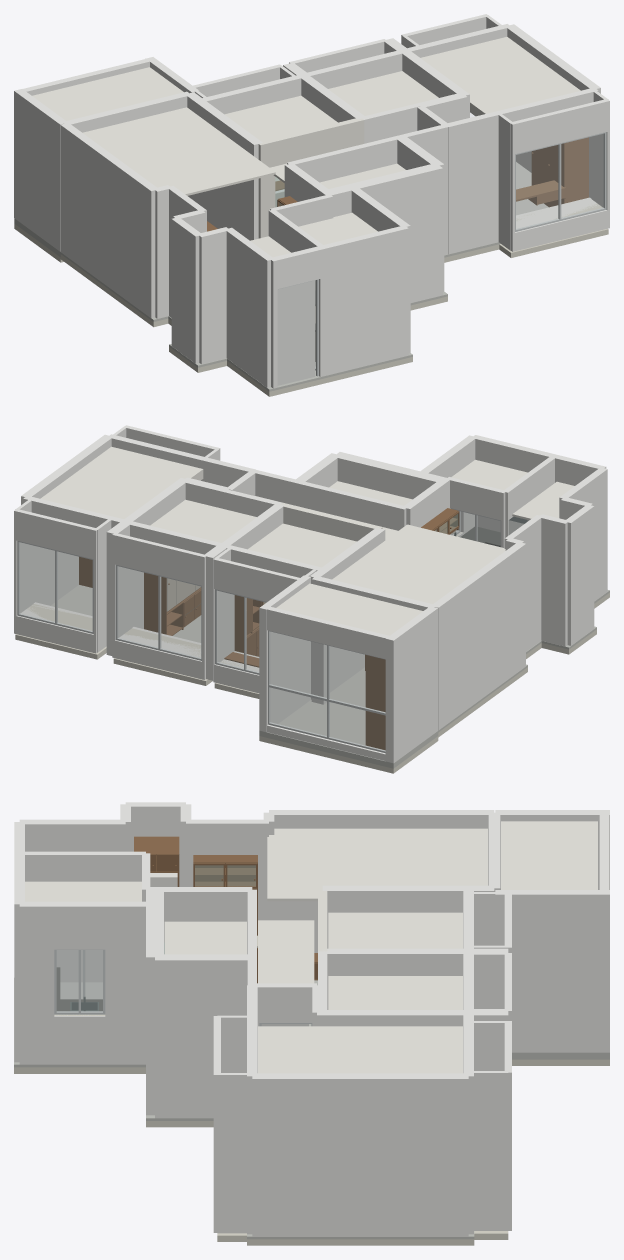
Rendered from BASE-v3-最终封窗范围示意.glb.
3 renders of one model, top to bottom at view 1: azimuth 30°, elevation 25°; view 2: azimuth 150°, elevation 25°; view 3: azimuth 270°, elevation 25°, orthographic. The views are drawn at different scales.
Parts seen in each view (by area): view 1: W-living-west-jamb-0, W-kitchen-exterior-south-jamb-0, C-panel-living, W-bay-master-bottom-room-jamb-0, W-balcony-left-jamb-0, C-panel-master, W-entry-west-jamb-0, W-bathroom-south-jamb-3, W-bedroom1-west-jamb-0, C-panel-balcony, W-west-niche-jamb-0, D-entry-leaf (+55 smaller); view 2: W-living-west-jamb-0, C-panel-living, W-balcony-left-jamb-0, C-panel-master, WIN-balcony-glass-b, WIN-balcony-glass-a, W-balcony-right-jamb-0, C-panel-balcony, W-west-niche-jamb-0, W-west-return-jamb-0, W-master-east-jamb-0, FIN-balcony-pending (+69 smaller); view 3: W-master-east-jamb-0, W-balcony-right-jamb-0, C-panel-living, W-bathroom-east-jamb-0, C-panel-master, W-kitchen-exterior-east-jamb-0, C-panel-balcony, W-kitchen-exterior-east-jamb-3, W-bay-master-top-right-jamb-0, W-living-west-jamb-0, W-bay-master-bottom-right-jamb-0, W-entry-west-jamb-0 (+47 smaller).
Boxes of the visible parts, x1,y1,x2,y2 form: W-living-west-jamb-0: [60, 124, 157, 318]; W-kitchen-exterior-south-jamb-0: [321, 225, 408, 375]; C-panel-living: [85, 107, 275, 195]; W-bay-master-bottom-room-jamb-0: [445, 111, 499, 254]; W-balcony-left-jamb-0: [14, 89, 65, 251]; C-panel-master: [425, 37, 580, 113]; W-entry-west-jamb-0: [226, 227, 273, 387]; W-bathroom-south-jamb-3: [390, 164, 442, 302]; W-bedroom1-west-jamb-0: [187, 92, 262, 240]; C-panel-balcony: [32, 67, 183, 119]; W-west-niche-jamb-0: [171, 217, 202, 363]; D-entry-leaf: [277, 280, 315, 385]; W-living-west-jamb-0: [432, 542, 525, 730]; C-panel-living: [332, 524, 505, 603]; W-balcony-left-jamb-0: [385, 606, 438, 763]; C-panel-master: [40, 446, 202, 517]; WIN-balcony-glass-b: [269, 632, 326, 736]; WIN-balcony-glass-a: [329, 646, 385, 750]; W-balcony-right-jamb-0: [259, 575, 310, 732]; C-panel-balcony: [276, 583, 422, 635]; W-west-niche-jamb-0: [566, 504, 594, 645]; W-west-return-jamb-0: [538, 514, 569, 646]; W-master-east-jamb-0: [21, 434, 113, 605]; FIN-balcony-pending: [259, 699, 438, 768]; W-master-east-jamb-0: [252, 1073, 468, 1236]; W-balcony-right-jamb-0: [495, 890, 609, 1052]; C-panel-living: [267, 828, 487, 901]; W-bathroom-east-jamb-0: [155, 954, 251, 1118]; C-panel-master: [258, 1026, 462, 1073]; W-kitchen-exterior-east-jamb-0: [105, 901, 145, 1064]; C-panel-balcony: [501, 821, 597, 889]; W-kitchen-exterior-east-jamb-3: [19, 901, 54, 1064]; W-bay-master-top-right-jamb-0: [468, 1071, 508, 1230]; W-living-west-jamb-0: [269, 810, 494, 952]; W-bay-master-bottom-right-jamb-0: [217, 1073, 251, 1233]; W-entry-west-jamb-0: [19, 819, 125, 982].
Bounding box in the file's own units: 11.08 × 3.2 × 10.08.
